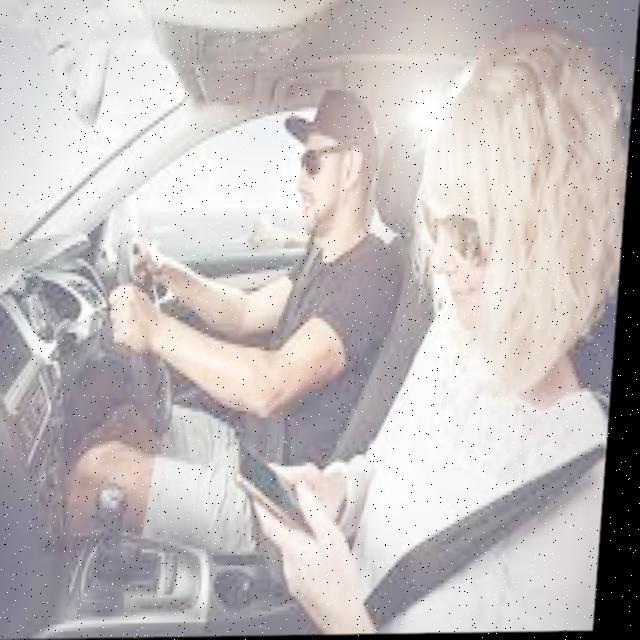seatbelt: (356, 306, 620, 636)
